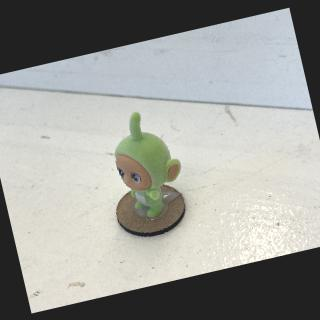teletubby: (114, 112, 180, 217)
